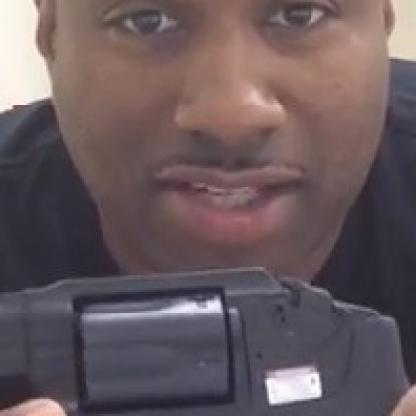gun: (0, 256, 414, 414)
